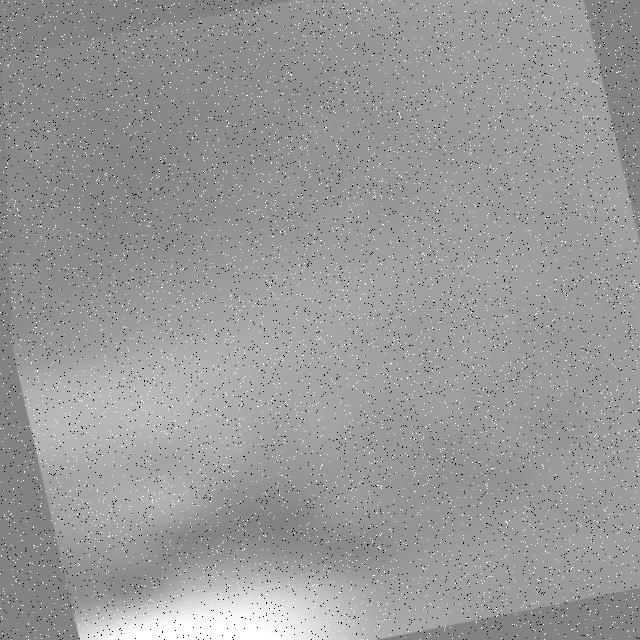person: (12, 297, 385, 545), (71, 563, 433, 640)
